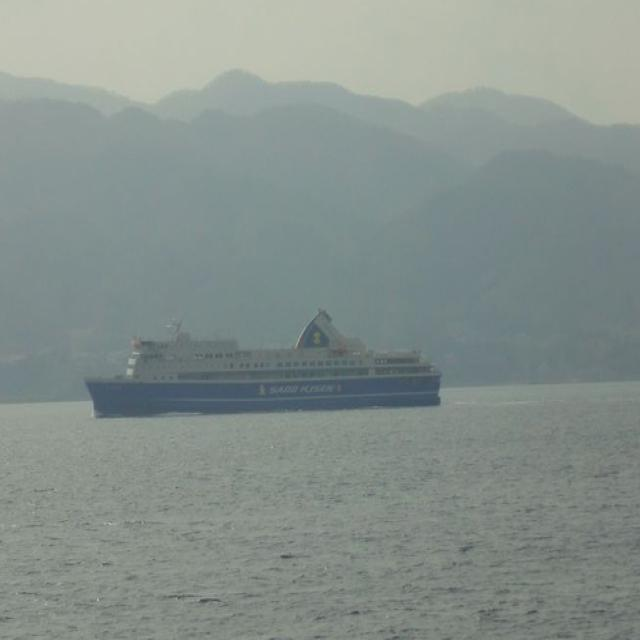passenger ship: (77, 312, 464, 441)
